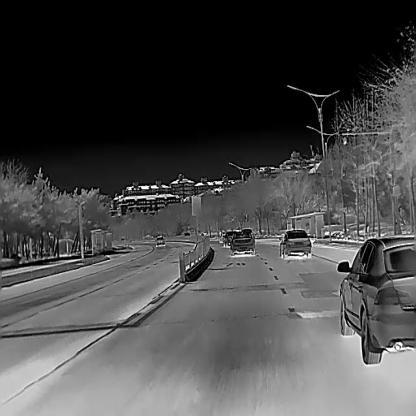car: (336, 233, 416, 363), (279, 229, 311, 259), (230, 230, 254, 255), (221, 231, 237, 247), (155, 236, 165, 246)
